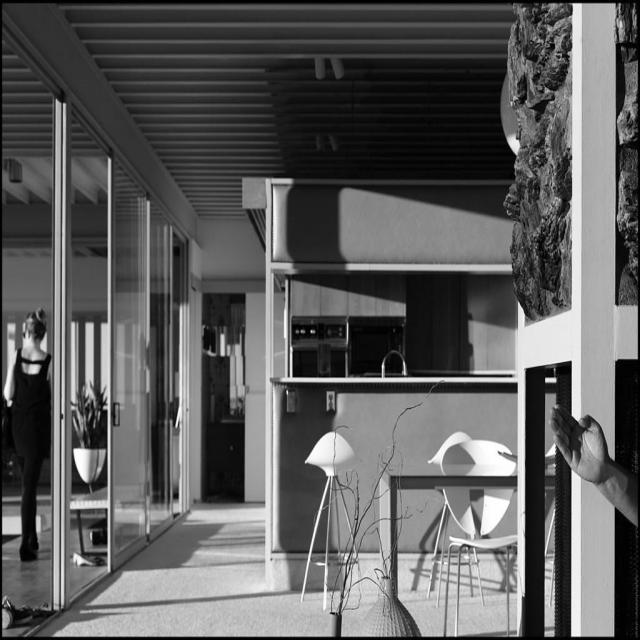Table: (310, 413, 548, 614)
